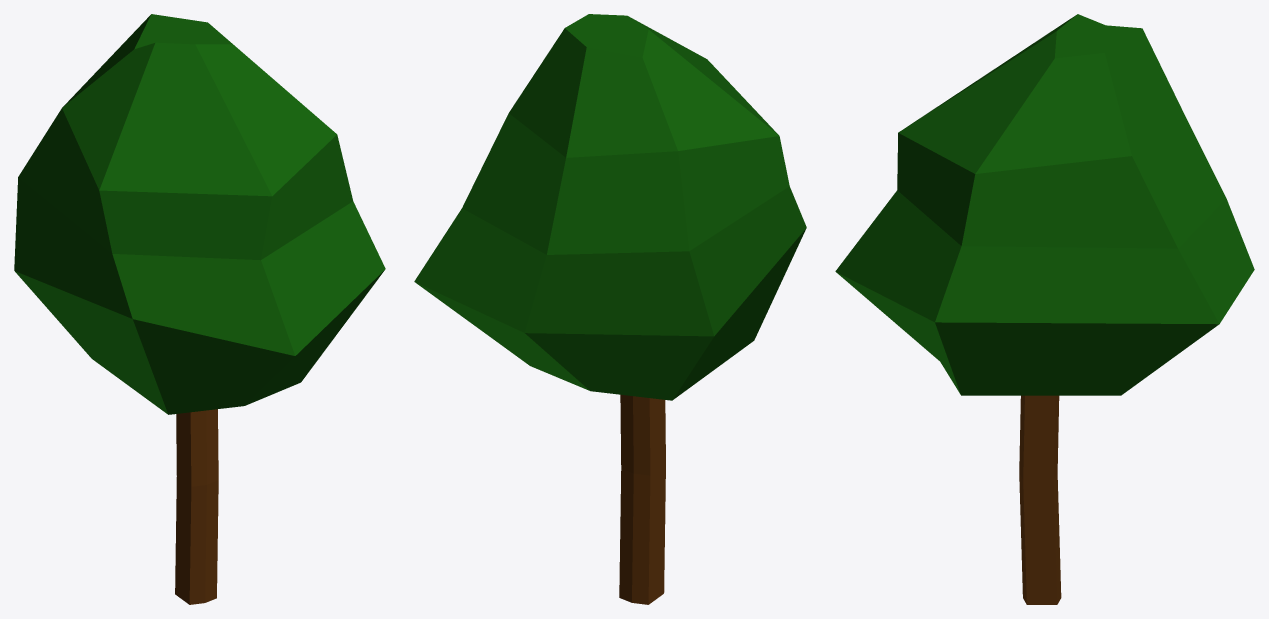
File: Tree.fbx
The picture shows the model from 3 angles, left to right: view 1: azimuth 30°, elevation 25°; view 2: azimuth 150°, elevation 25°; view 3: azimuth 270°, elevation 25°; orthographic projection. The views are drawn at different scales.
Visible parts, largest first — view 1: Plane; view 2: Plane; view 3: Plane.
Part boxes in pixels (x1,y1,x2,y2): Plane: (14,14,385,604); Plane: (414,14,806,604); Plane: (835,14,1254,604).
Bounding box in the file's own units: 656 × 1303 × 866.
